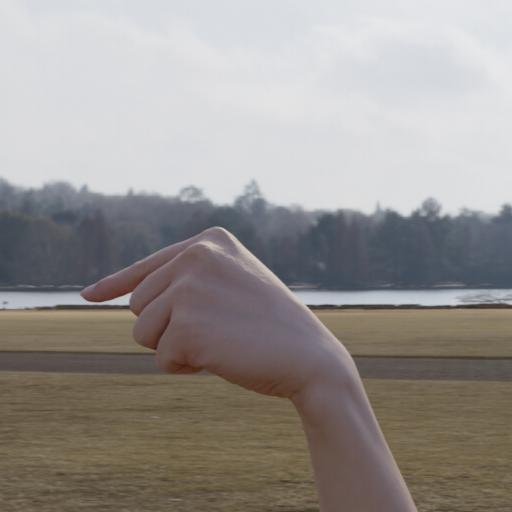G: (70, 210, 370, 416)
